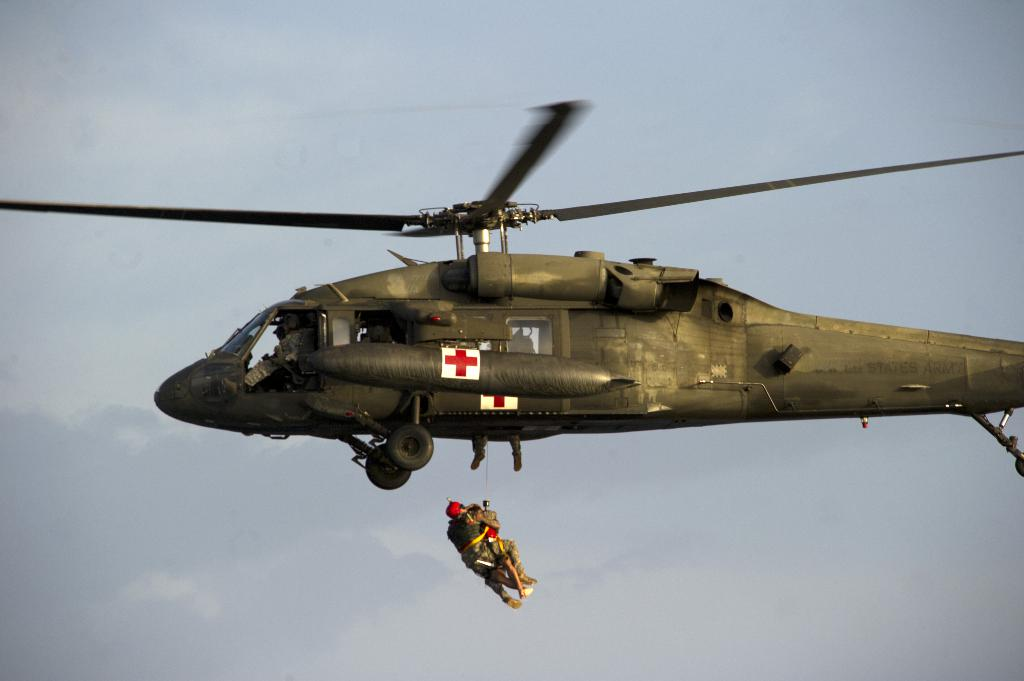Person: (445, 496, 537, 609)
